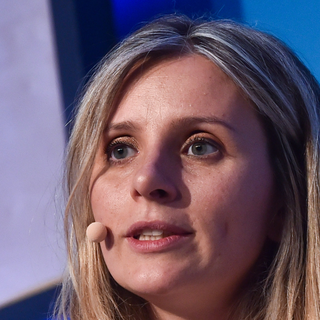eye: (177, 134, 228, 164), (99, 138, 142, 165)
